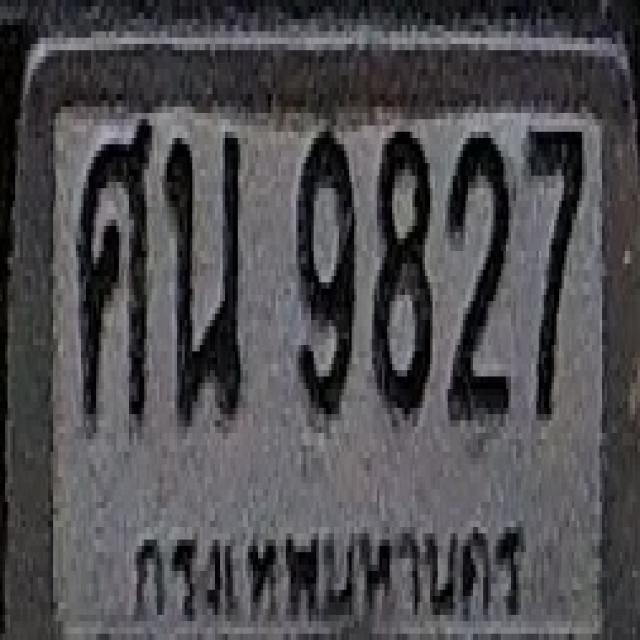-: (77, 119, 151, 427), (164, 128, 240, 424)
2: (446, 132, 509, 420)
7: (526, 126, 584, 414)
8: (373, 126, 431, 414)
9: (296, 126, 354, 414)
BKK: (124, 491, 532, 640)
